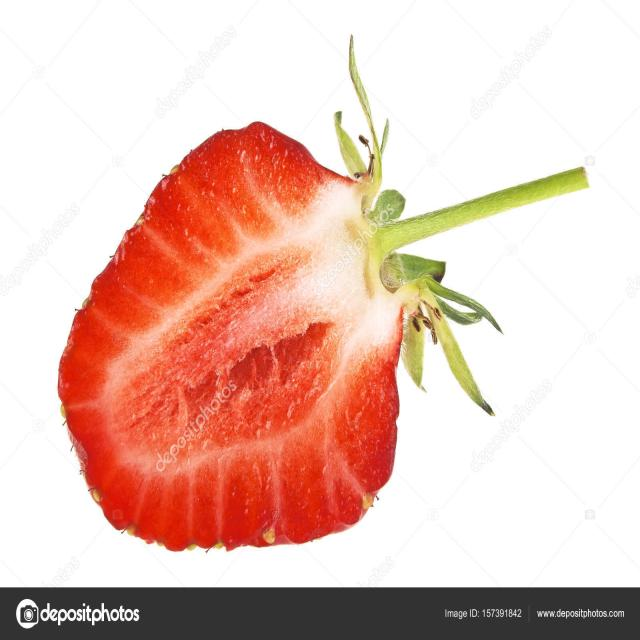strawberry: (52, 55, 611, 559)
